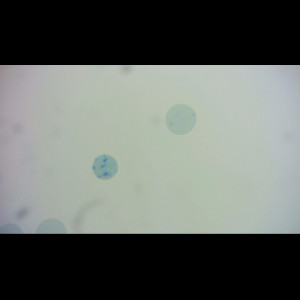aggregate reticulocyte: (90, 153, 120, 181)
punctate reticulocyte: (165, 103, 198, 137)
